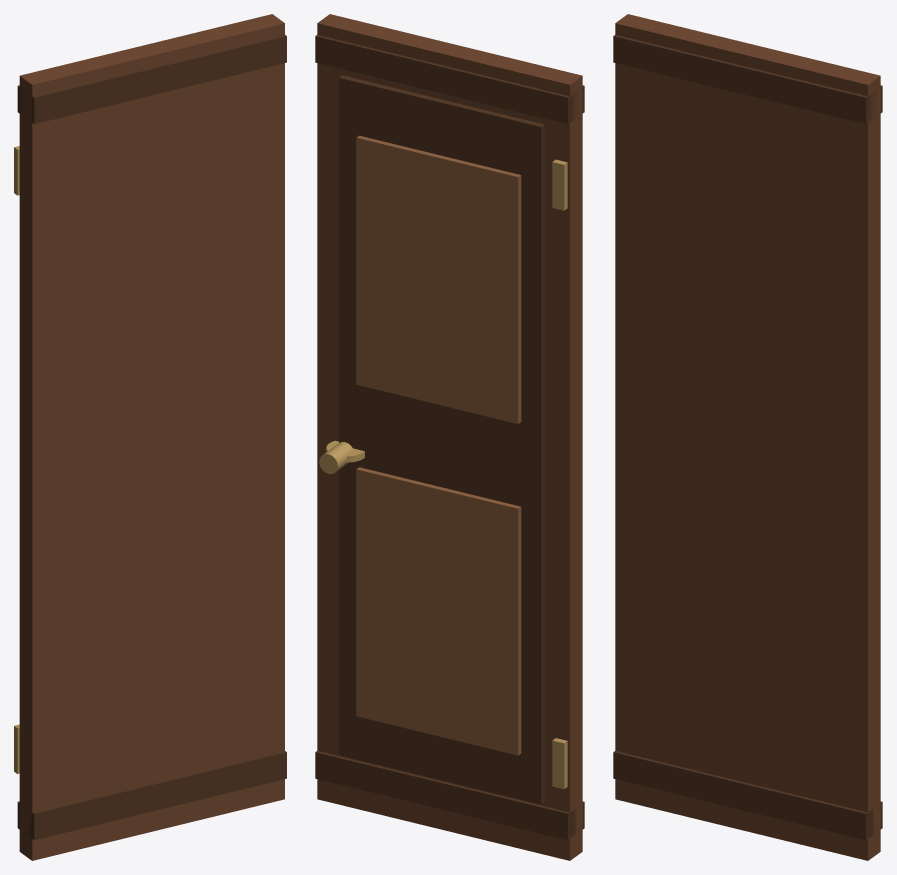
File: mainDoor.glb
3 views of the same model, side by side, from view 1: azimuth 30°, elevation 25°; view 2: azimuth 150°, elevation 25°; view 3: azimuth 330°, elevation 25° (orthographic).
Parts seen in each view (by area): view 1: 实木门扇, 门扇上横档, 门扇下横档; view 2: 门板装饰芯 (×2), 门板内框, 实木门扇, 门扇上横档, 门扇下横档, 黄铜门合页 (×2), 黄铜门把手; view 3: 实木门扇, 门扇上横档, 门扇下横档.
Boxes of the visible parts, box(x1,y1,x2,y2) form: 实木门扇: box(19, 14, 284, 860); 门扇上横档: box(17, 35, 286, 124); 门扇下横档: box(17, 751, 286, 840); 门板装饰芯 (×2): box(356, 135, 521, 755); 门板内框: box(339, 75, 544, 804); 实木门扇: box(317, 14, 582, 860); 门扇上横档: box(315, 34, 584, 123); 门扇下横档: box(315, 751, 584, 840); 黄铜门合页 (×2): box(552, 159, 567, 788); 黄铜门把手: box(319, 442, 353, 474); 实木门扇: box(615, 14, 880, 860); 门扇上横档: box(613, 34, 882, 123); 门扇下横档: box(613, 751, 882, 840).
Bounding box in the file's own units: 0.75 × 2.2 × 0.19.
